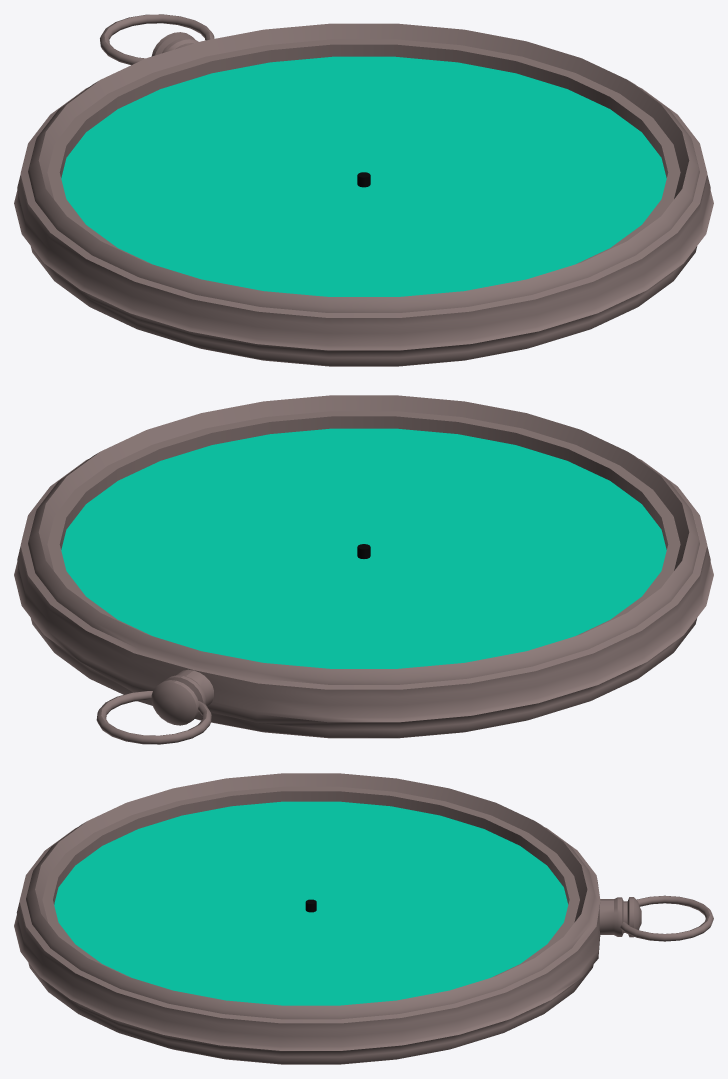
File: SM_PocketWatch.fbx
3 renders of one model, top to bottom at view 1: azimuth 30°, elevation 25°; view 2: azimuth 150°, elevation 25°; view 3: azimuth 270°, elevation 25°, orthographic. The views are drawn at different scales.
Visible parts, largest first — view 1: Cylinder; view 2: Cylinder; view 3: Cylinder.
Boxes of the visible parts, x1,y1,x2,y2 form: Cylinder: [14, 14, 713, 366]; Cylinder: [14, 395, 713, 744]; Cylinder: [14, 773, 713, 1064].
Size of the model in its own units: 30.18 by 4.22 by 35.73.
